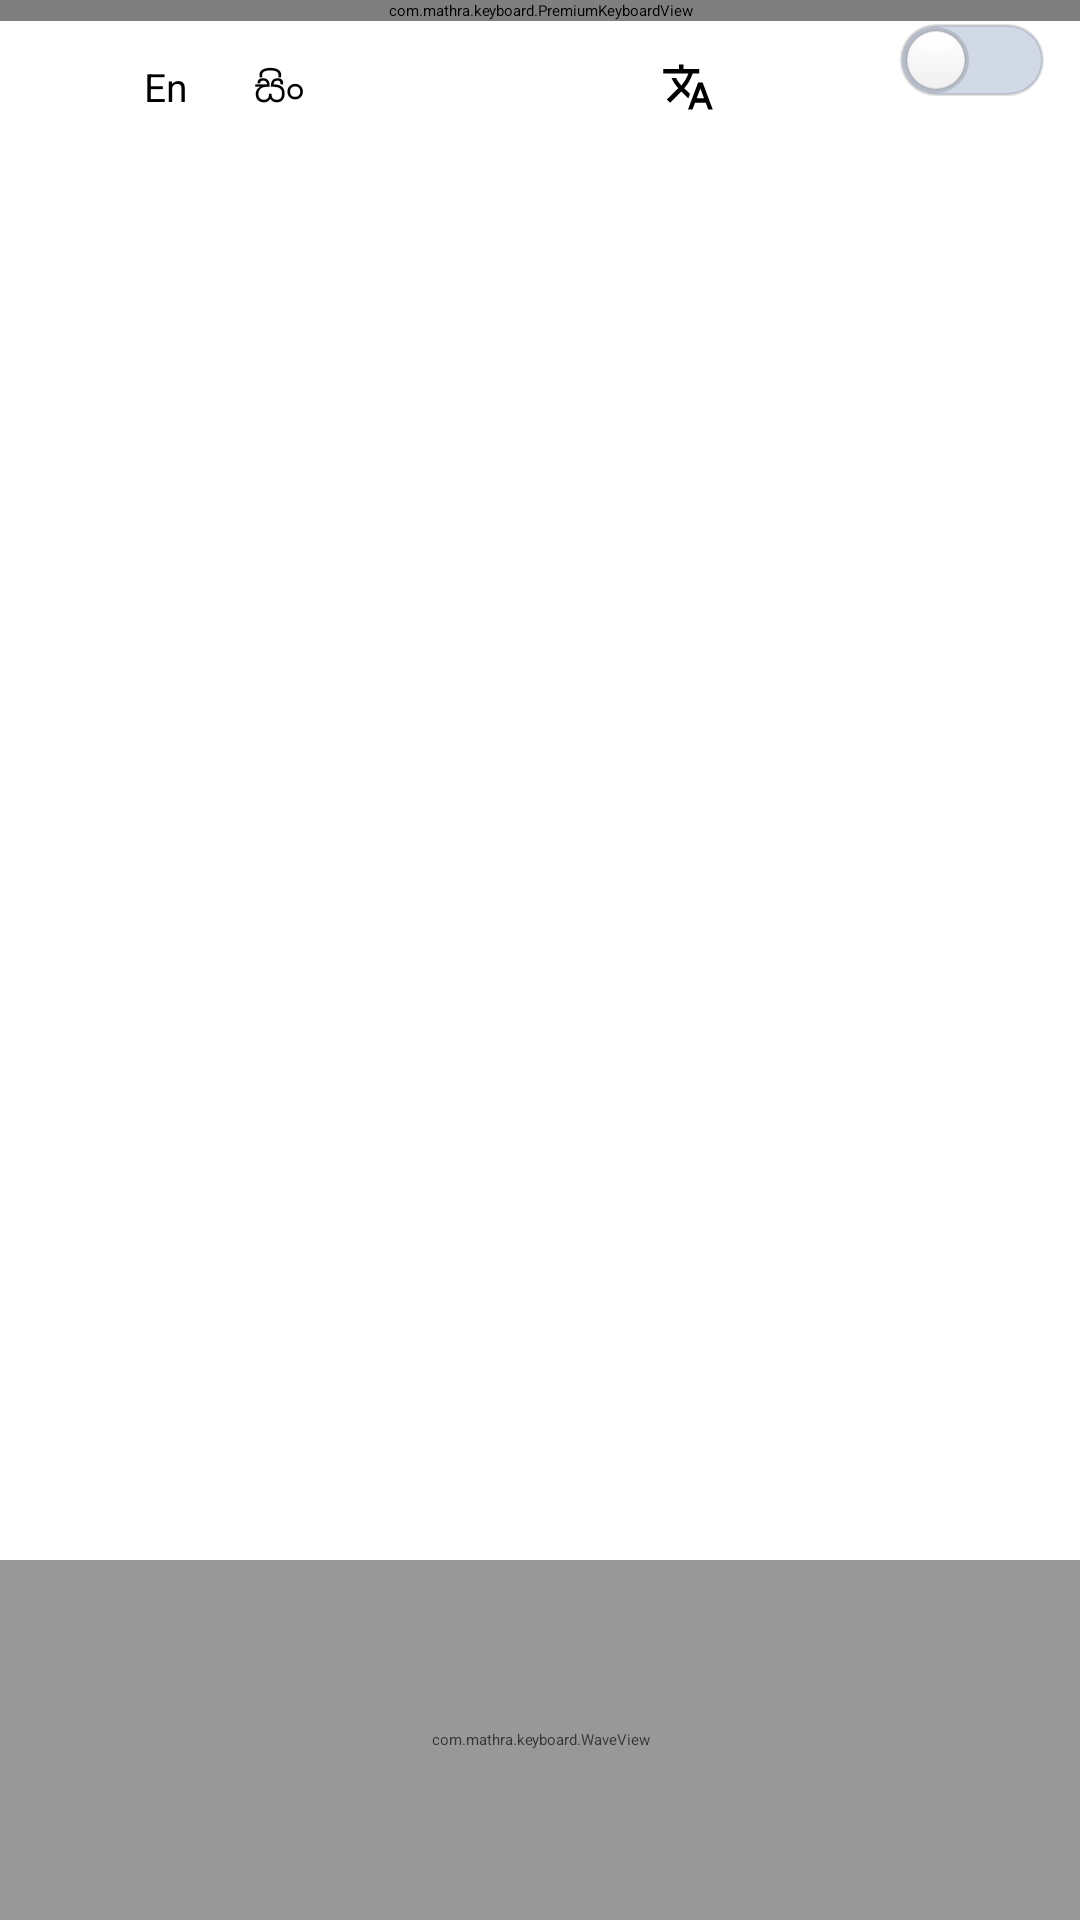

Point at icon controls on the screen. Image size 1080px x 1920px, points as point (x, y).
translate: point (688, 87)
